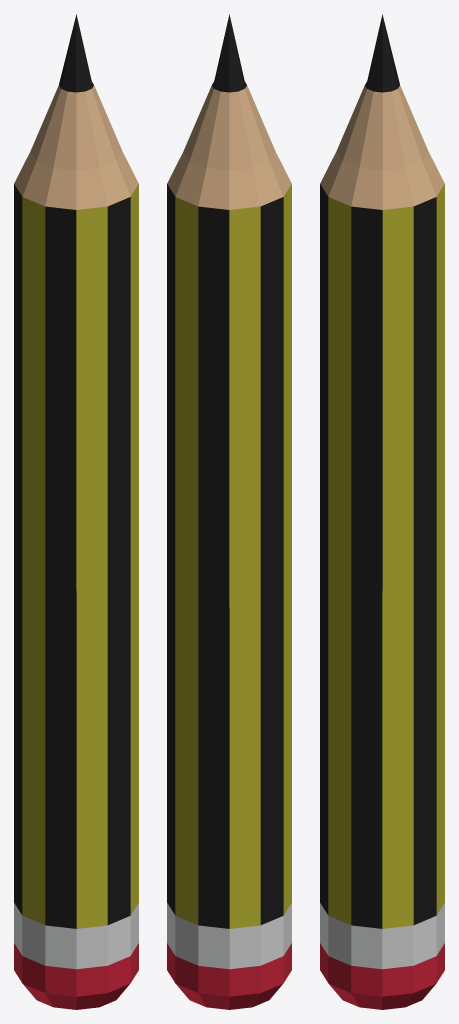
The model's file is pencil.fbx.
3 renders of one model, left to right at view 1: azimuth 90°, elevation 25°; view 2: azimuth 150°, elevation 25°; view 3: azimuth 270°, elevation 25°, orthographic.
Visible parts, largest first — view 1: pencil; view 2: pencil; view 3: pencil.
Boxes of the visible parts, box(x1,y1,x2,y2) form: pencil: box(14, 14, 138, 1009); pencil: box(167, 14, 291, 1009); pencil: box(320, 14, 444, 1009).
Size of the model in its own units: 1.4 by 12.28 by 1.4.
